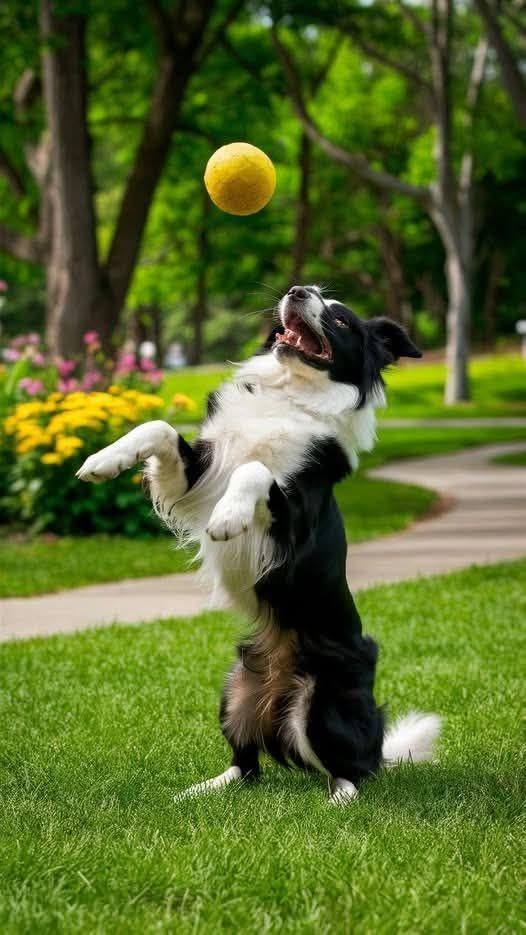dog: (78, 286, 439, 802)
